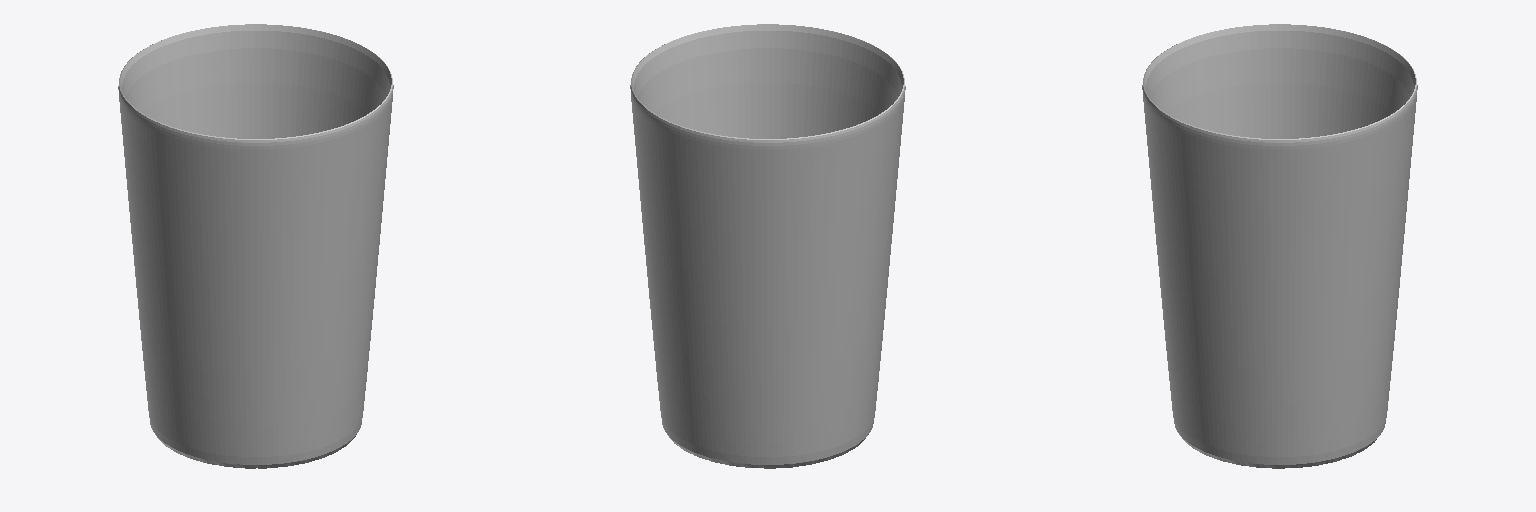
The model's file is Dr Pepper.obj.
3 views of the same model, side by side, from view 1: azimuth 30°, elevation 25°; view 2: azimuth 150°, elevation 25°; view 3: azimuth 270°, elevation 25° (orthographic).
Parts seen in each view (by area): view 1: Cylinder; view 2: Cylinder; view 3: Cylinder.
Part boxes in pixels (bbox=[...]): Cylinder: bbox=[118, 24, 393, 468]; Cylinder: bbox=[630, 24, 905, 468]; Cylinder: bbox=[1142, 24, 1417, 468].
Bounding box in the file's own units: 2.13 × 2.98 × 2.13.